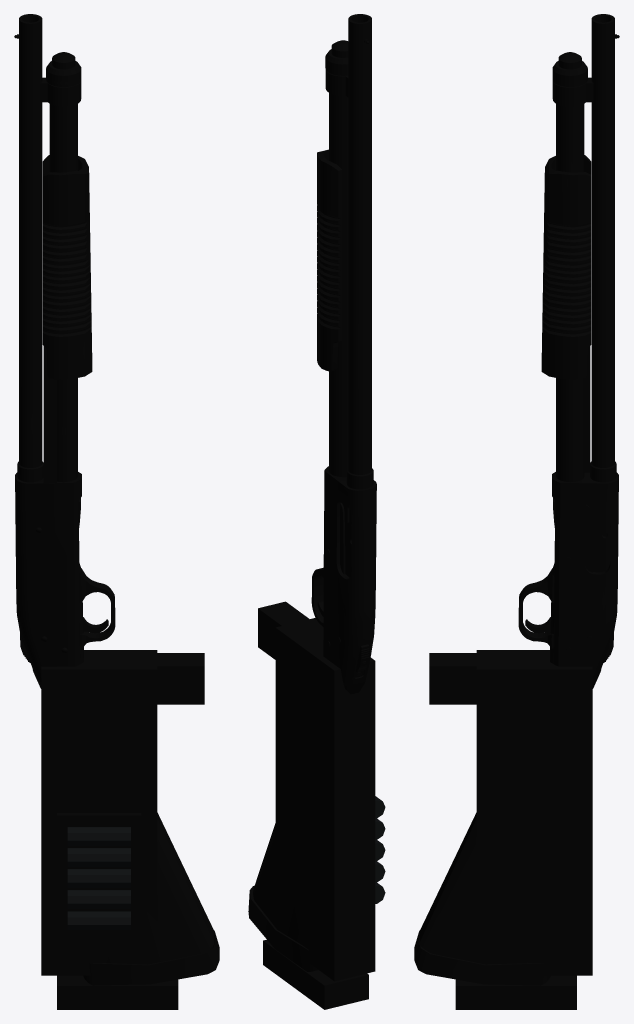
Rendered from M590__RecoilPad_Rubber__ShellHolder_Butt__Stock_M590_PistolGrip.fbx.
The picture shows the model from 3 angles, left to right: view 1: azimuth 90°, elevation 25°; view 2: azimuth 210°, elevation 25°; view 3: azimuth 270°, elevation 25°; orthographic projection.
Visible parts, largest first — view 1: asset_M590.001; view 2: asset_M590.001; view 3: asset_M590.001.
Part boxes in pixels (box(x1,y1,x2,y2)): asset_M590.001: box(14, 14, 219, 1009); asset_M590.001: box(248, 14, 385, 1009); asset_M590.001: box(414, 14, 619, 1009).
Size of the model in its own units: 0.0447 by 0.615 by 0.1167.
